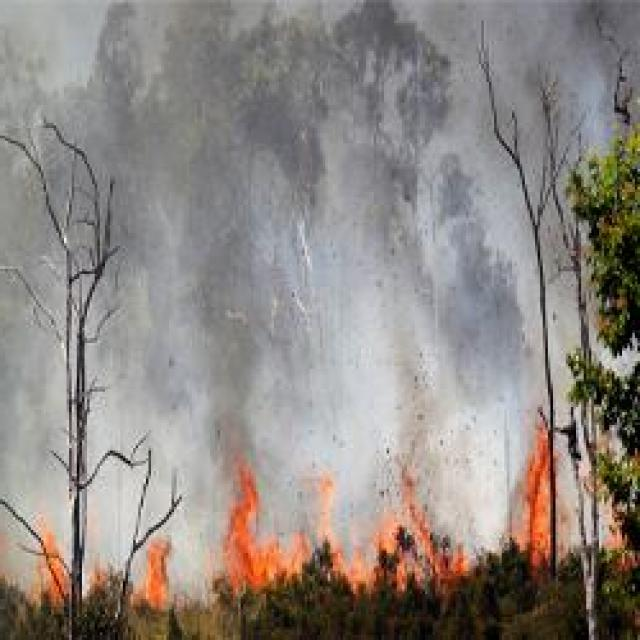fire: (242, 546, 268, 582)
smoke: (0, 2, 132, 108), (208, 321, 258, 441)
